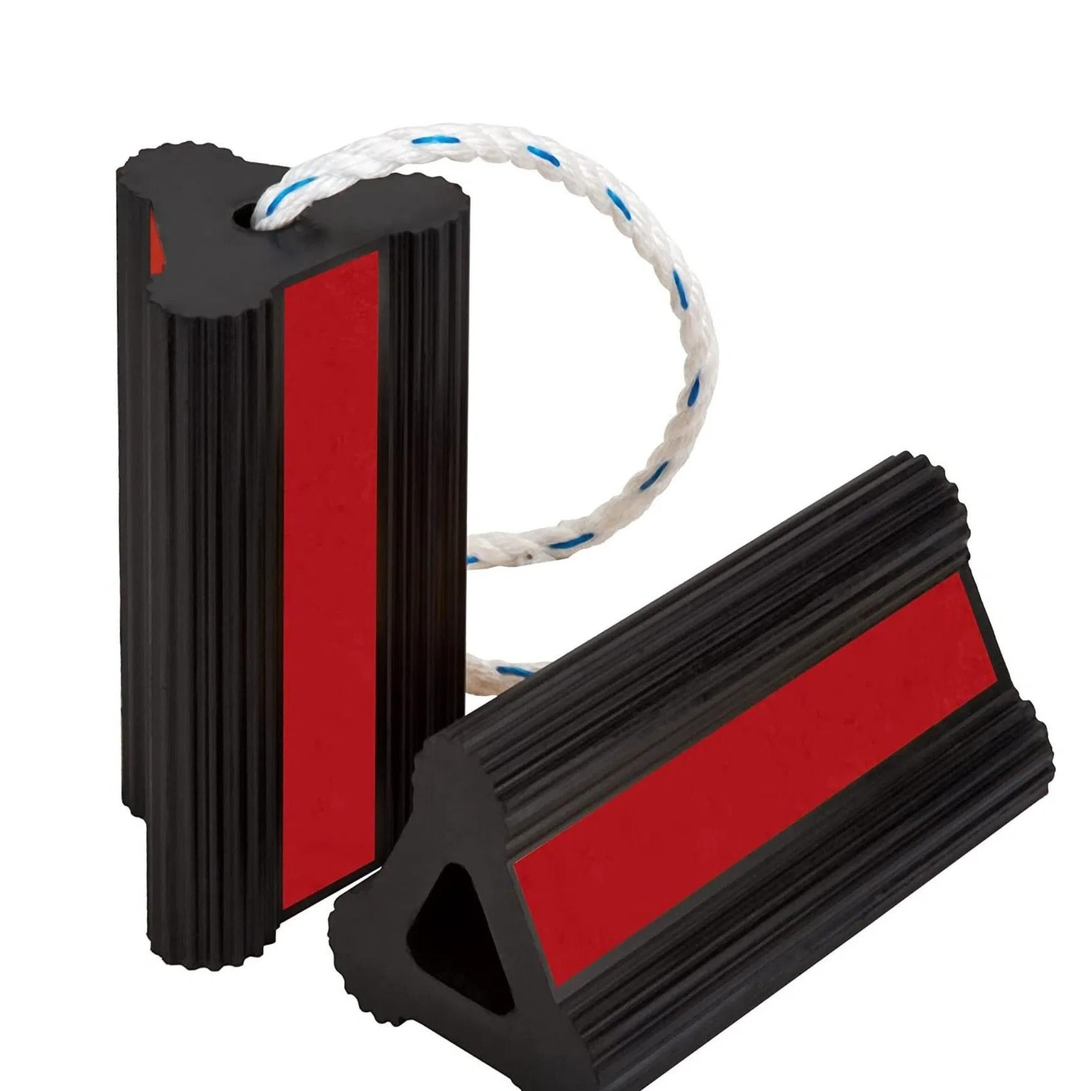chock: (325, 434, 1067, 1091), (67, 124, 478, 979)
